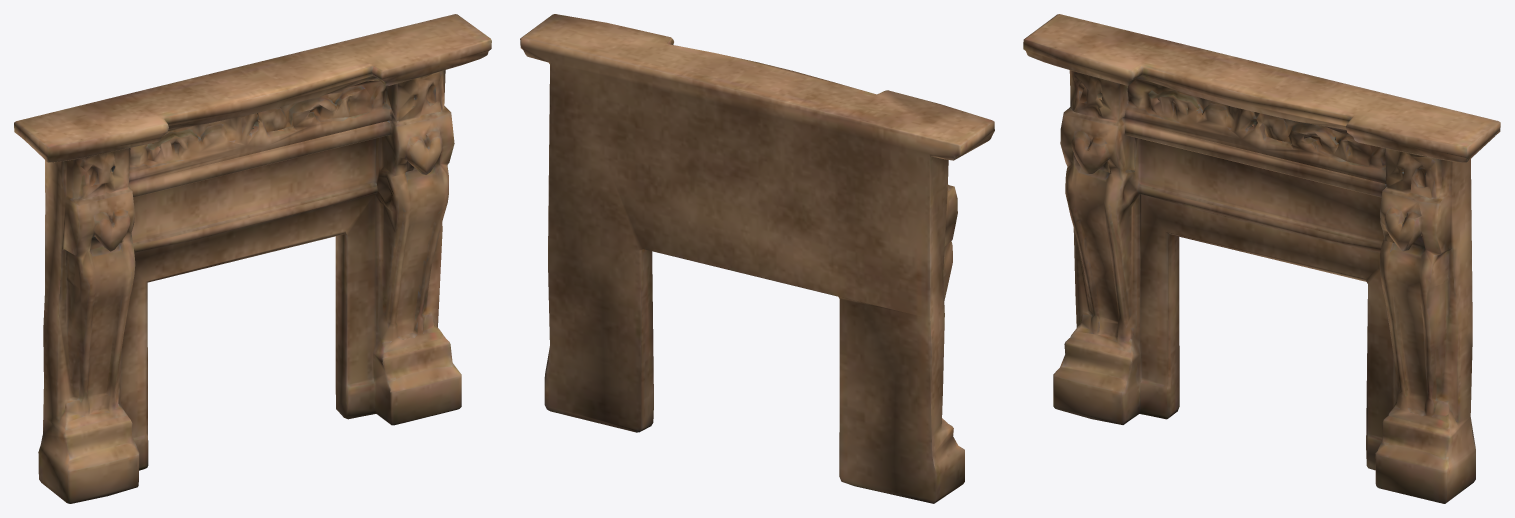
Rendered from ornate-sandstone-fireplace-v001.glb.
The picture shows the model from 3 angles, left to right: view 1: azimuth 30°, elevation 25°; view 2: azimuth 150°, elevation 25°; view 3: azimuth 330°, elevation 25°; orthographic projection.
Visible parts, largest first — view 1: ornate-sandstone-fireplace; view 2: ornate-sandstone-fireplace; view 3: ornate-sandstone-fireplace.
Boxes of the visible parts, left/top/right/bottom form: ornate-sandstone-fireplace: left=14, top=14, right=491, bottom=503; ornate-sandstone-fireplace: left=520, top=14, right=994, bottom=503; ornate-sandstone-fireplace: left=1023, top=14, right=1500, bottom=503.
Bounding box in the file's own units: 2.72 × 2.17 × 0.4294.
1 material, 1 textured.
